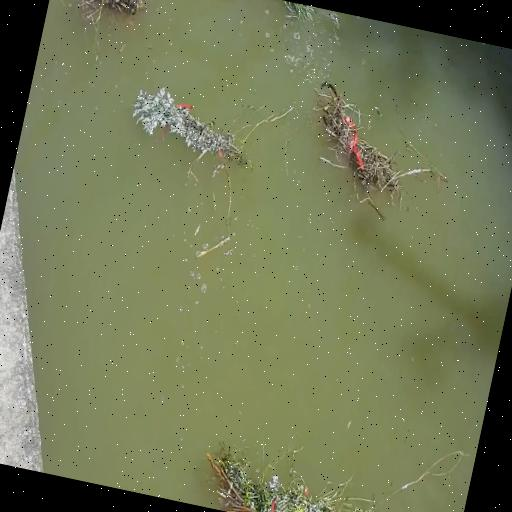twig: (299, 82, 418, 200), (106, 84, 244, 182), (209, 449, 394, 512), (63, 0, 150, 34)
